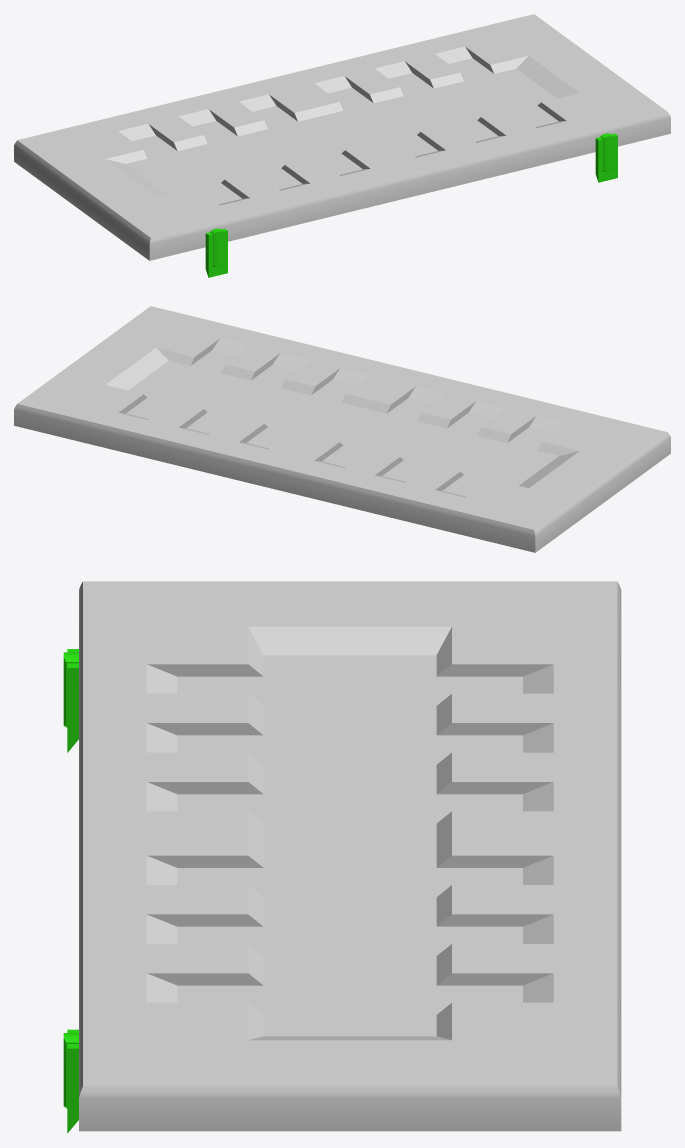
File: AmmoCrate_Lid.fbx
The picture shows the model from 3 angles, top to bottom: view 1: azimuth 30°, elevation 25°; view 2: azimuth 150°, elevation 25°; view 3: azimuth 270°, elevation 25°; orthographic projection. The views are drawn at different scales.
Visible parts, largest first — view 1: AmmoCrate.Lid; view 2: AmmoCrate.Lid; view 3: AmmoCrate.Lid.
Part boxes in pixels (x1,y1,x2,y2): AmmoCrate.Lid: (14,14,670,277); AmmoCrate.Lid: (14,306,670,552); AmmoCrate.Lid: (63,581,621,1133).
Size of the model in its own units: 178 by 16.36 by 82.25.
